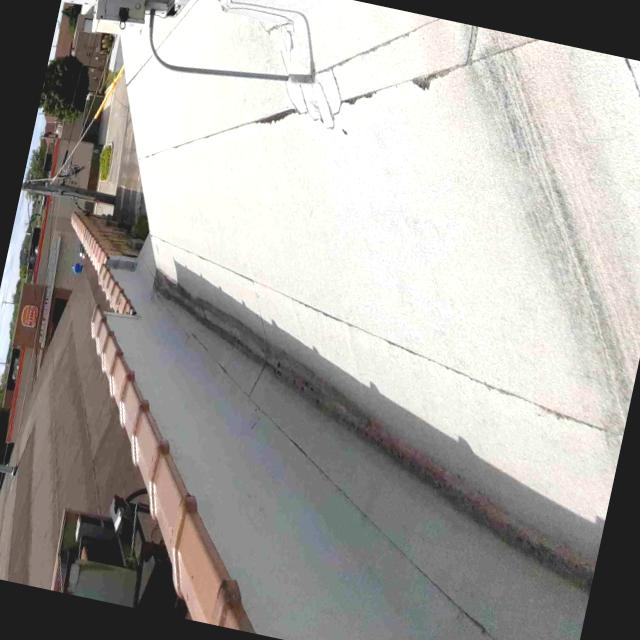RTU: (53, 0, 240, 69)
